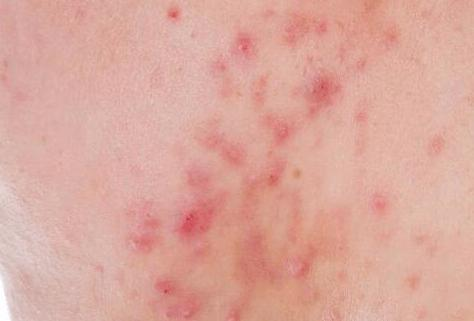papular: (298, 76, 341, 132), (174, 203, 225, 247), (235, 29, 268, 74), (287, 260, 324, 288), (267, 164, 293, 200), (271, 118, 293, 149)
purulent: (179, 293, 212, 321)
